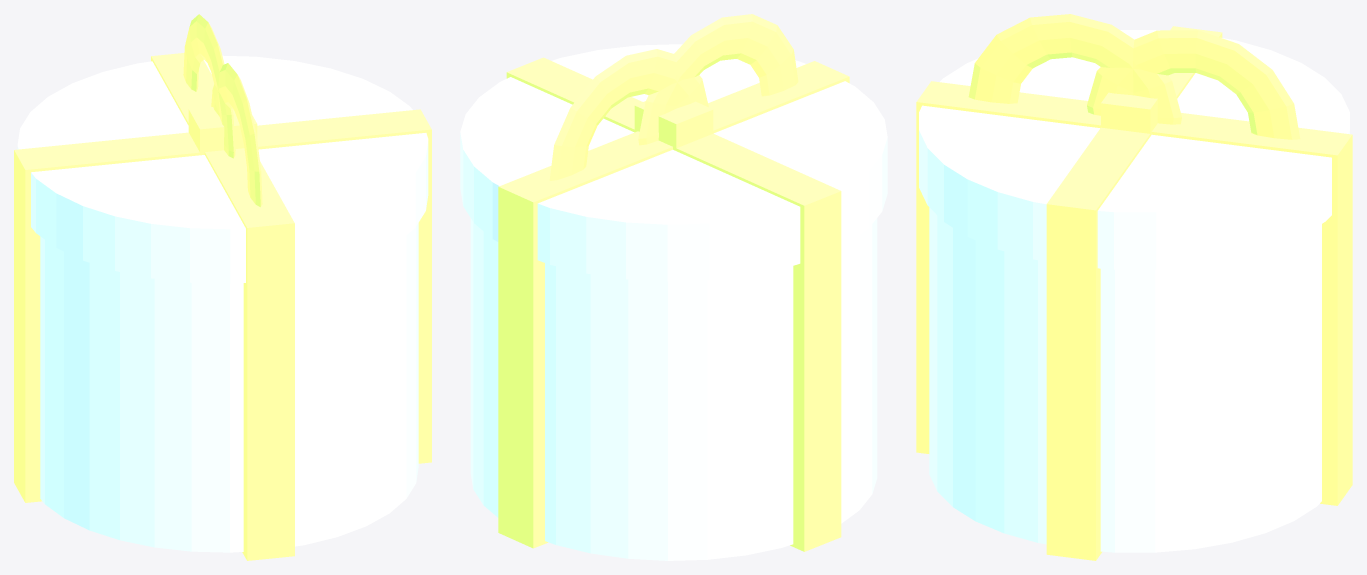
The model's file is Tmpl_Round_Root_239.glb.
3 views of the same model, side by side, from view 1: azimuth 30°, elevation 25°; view 2: azimuth 150°, elevation 25°; view 3: azimuth 270°, elevation 25° (orthographic). The views are drawn at different scales.
Parts seen in each view (by area): view 1: Tmpl_Round_Base.237, Tmpl_Round_Lid.237, Tmpl_Round_Ribbon_X.237, Tmpl_Round_Ribbon_Y.237, Tmpl_Round_BowR.237, Tmpl_Round_BowL.237, Tmpl_Round_BowKnot.237; view 2: Tmpl_Round_Base.237, Tmpl_Round_Lid.237, Tmpl_Round_Ribbon_Y.237, Tmpl_Round_Ribbon_X.237, Tmpl_Round_BowL.237, Tmpl_Round_BowR.237, Tmpl_Round_BowKnot.237; view 3: Tmpl_Round_Base.237, Tmpl_Round_Lid.237, Tmpl_Round_Ribbon_Y.237, Tmpl_Round_Ribbon_X.237, Tmpl_Round_BowL.237, Tmpl_Round_BowR.237, Tmpl_Round_BowKnot.237.
Boxes of the visible parts, x1,y1,x2,y2 form: Tmpl_Round_Base.237: (40,223,418,552); Tmpl_Round_Lid.237: (17,55,428,283); Tmpl_Round_Ribbon_X.237: (151,53,294,560); Tmpl_Round_Ribbon_Y.237: (14,109,431,502); Tmpl_Round_BowR.237: (183,14,235,158); Tmpl_Round_BowL.237: (211,63,262,207); Tmpl_Round_BowKnot.237: (188,107,257,155); Tmpl_Round_Base.237: (470,218,877,560); Tmpl_Round_Lid.237: (460,44,887,281); Tmpl_Round_Ribbon_Y.237: (506,57,841,551); Tmpl_Round_Ribbon_X.237: (498,61,849,548); Tmpl_Round_BowL.237: (638,14,798,145); Tmpl_Round_BowR.237: (549,49,708,180); Tmpl_Round_BowKnot.237: (634,101,713,150); Tmpl_Round_Base.237: (929,207,1321,552); Tmpl_Round_Lid.237: (919,30,1349,269); Tmpl_Round_Ribbon_Y.237: (1046,26,1222,560); Tmpl_Round_Ribbon_X.237: (916,81,1352,505); Tmpl_Round_BowL.237: (968,14,1181,124); Tmpl_Round_BowR.237: (1087,30,1300,139); Tmpl_Round_BowKnot.237: (1101,92,1157,133).
Bounding box in the file's own units: 0.9216 × 1.04 × 0.9216.
